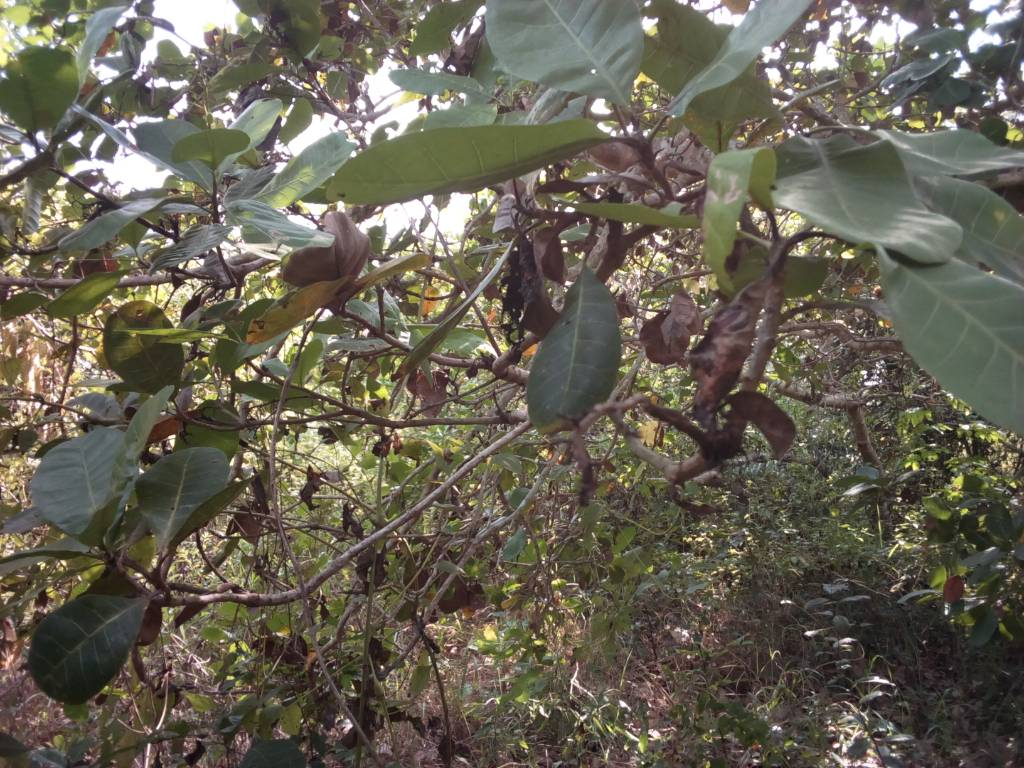Dessèchement des bourgeons: (494, 212, 544, 342)
